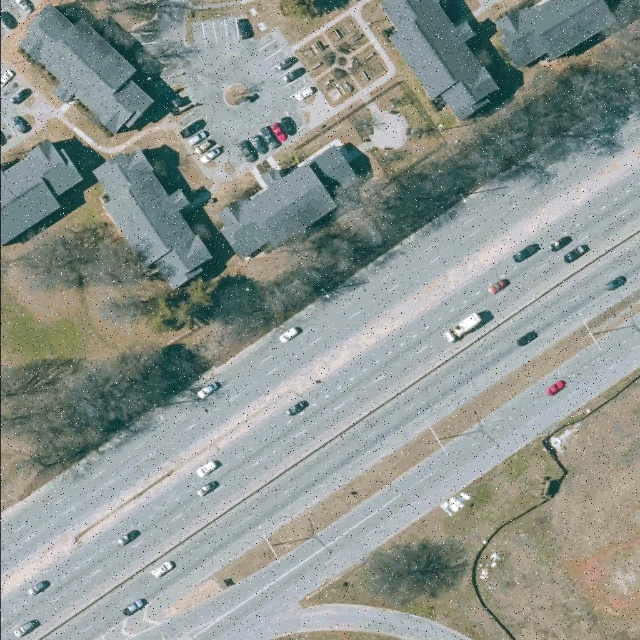vegetation: (12, 3, 640, 333), (2, 344, 211, 470), (367, 546, 466, 595)
